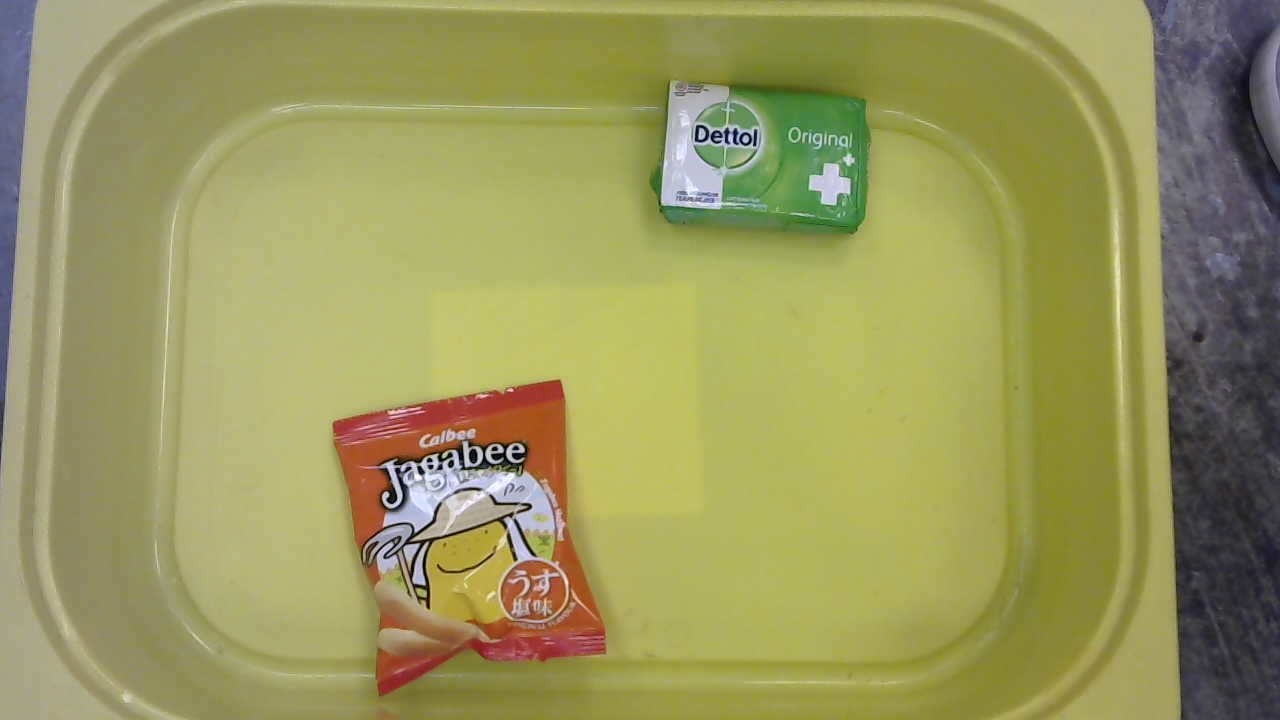Dettol: (650, 75, 876, 244)
JagabeeFarmer: (330, 378, 614, 702)
